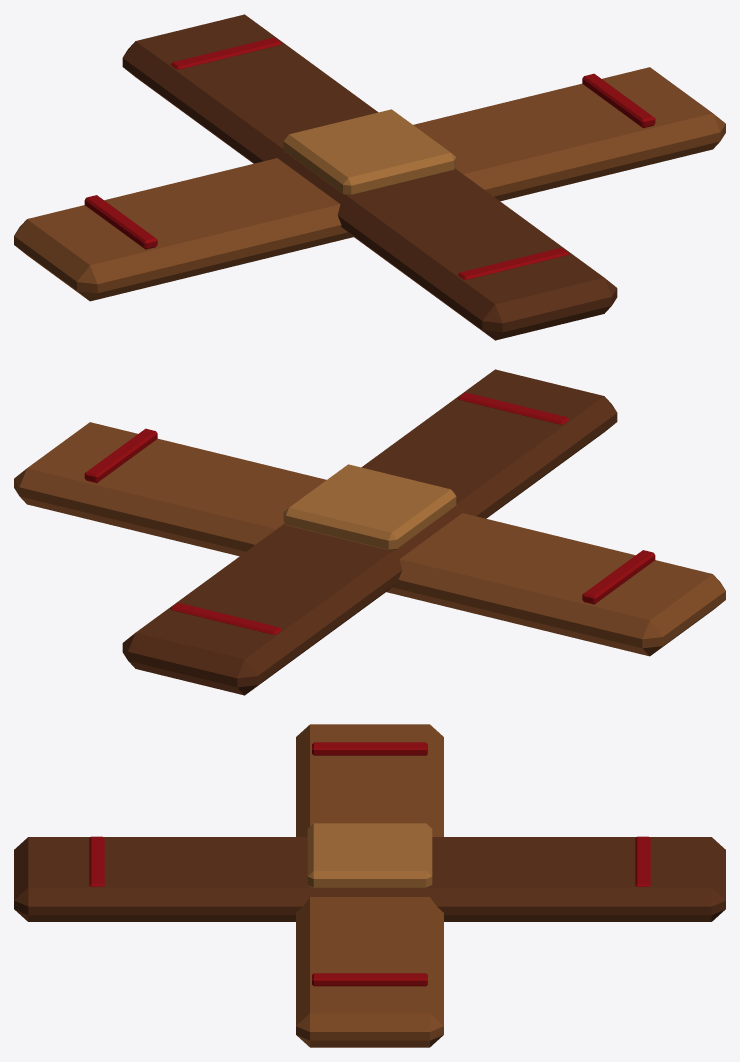
Rendered from control-cross.glb.
3 renders of one model, top to bottom at view 1: azimuth 30°, elevation 25°; view 2: azimuth 150°, elevation 25°; view 3: azimuth 270°, elevation 25°, orthographic. The views are drawn at different scales.
Parts seen in each view (by area): view 1: ControlCrossMesh; view 2: ControlCrossMesh; view 3: ControlCrossMesh.
Part boxes in pixels (bbox=[...]): ControlCrossMesh: bbox=[14, 14, 725, 340]; ControlCrossMesh: bbox=[14, 369, 725, 695]; ControlCrossMesh: bbox=[14, 724, 725, 1047].
Size of the model in its own units: 6 by 0.69 by 6.
1 material, 1 textured.
